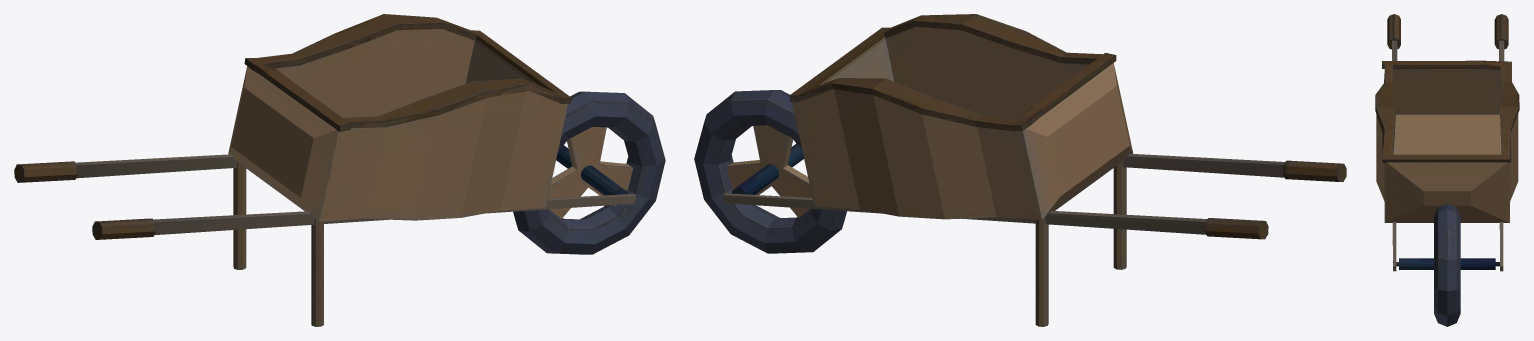
Rendered from 7rvJk5Cc9T0.glb.
3 views of the same model, side by side, from view 1: azimuth 30°, elevation 25°; view 2: azimuth 150°, elevation 25°; view 3: azimuth 270°, elevation 25° (orthographic). The views are drawn at different scales.
Parts seen in each view (by area): view 1: Node; view 2: Node; view 3: Node.
Part boxes in pixels (x1,y1,x2,y2): Node: [14, 14, 665, 326]; Node: [694, 14, 1346, 326]; Node: [1375, 14, 1519, 326].
Size of the model in its own units: 2.66 by 1 by 0.7934.
1 material, 1 textured.
